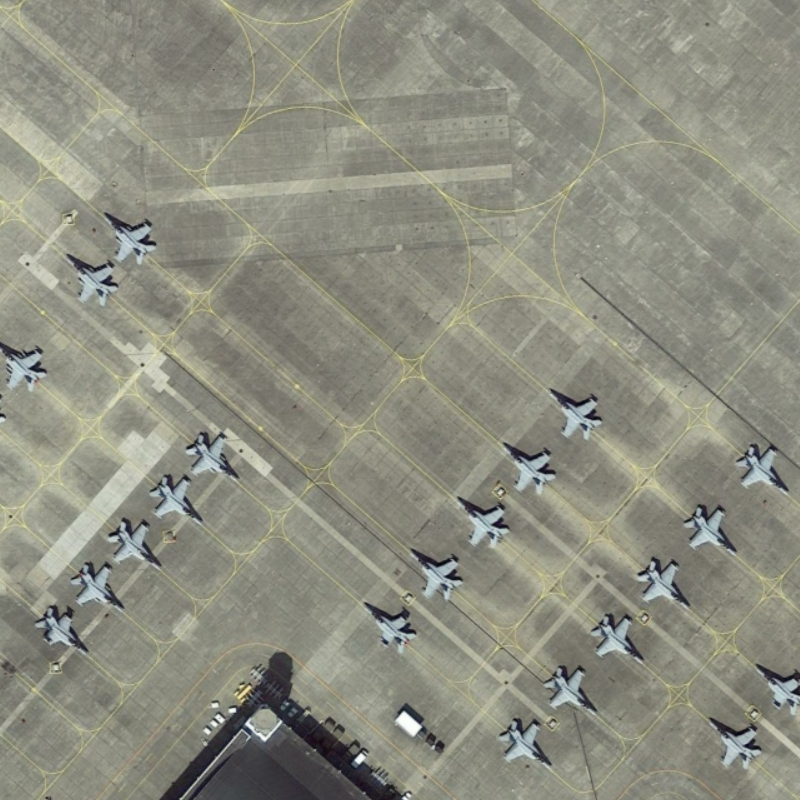A16: (395, 540, 471, 608), (538, 659, 609, 727), (583, 606, 656, 671), (96, 205, 164, 273), (356, 592, 423, 660), (730, 434, 796, 501), (632, 554, 699, 619), (180, 428, 249, 491), (65, 558, 135, 619), (543, 378, 607, 444), (492, 713, 559, 776), (30, 598, 94, 663), (449, 491, 515, 554), (675, 499, 742, 561), (104, 513, 167, 578), (702, 712, 768, 774), (63, 250, 129, 310), (143, 473, 211, 531), (501, 439, 560, 502), (750, 652, 800, 718), (1, 334, 52, 398)
